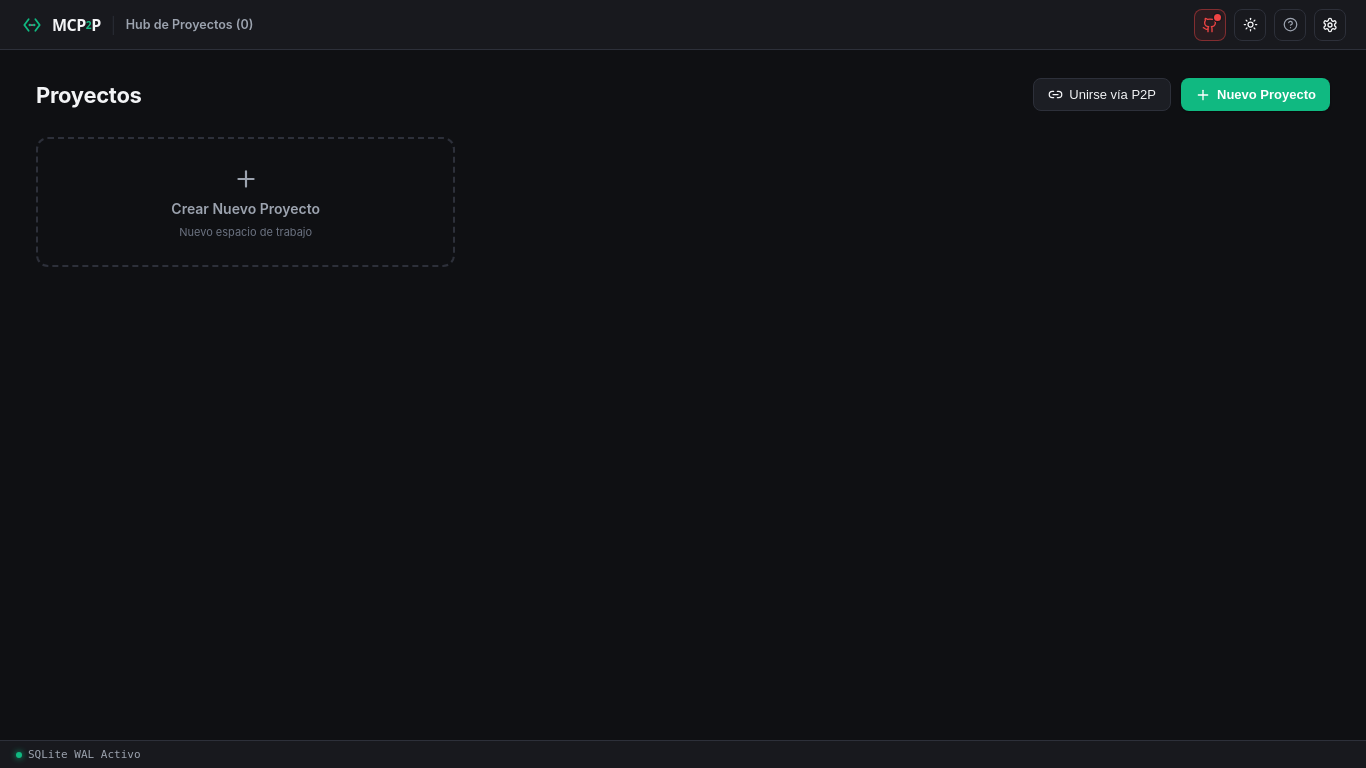
it: App - flujo de unión P2P pendiente › muestra la pantalla JoinRequestPending tras un join_p2p_project con status pending_approval
The width and height of the screenshot is (1366, 768).
Step 1. Click the button "Unirse vía P2P" → point(1102, 94), box [1033,78,1171,111]
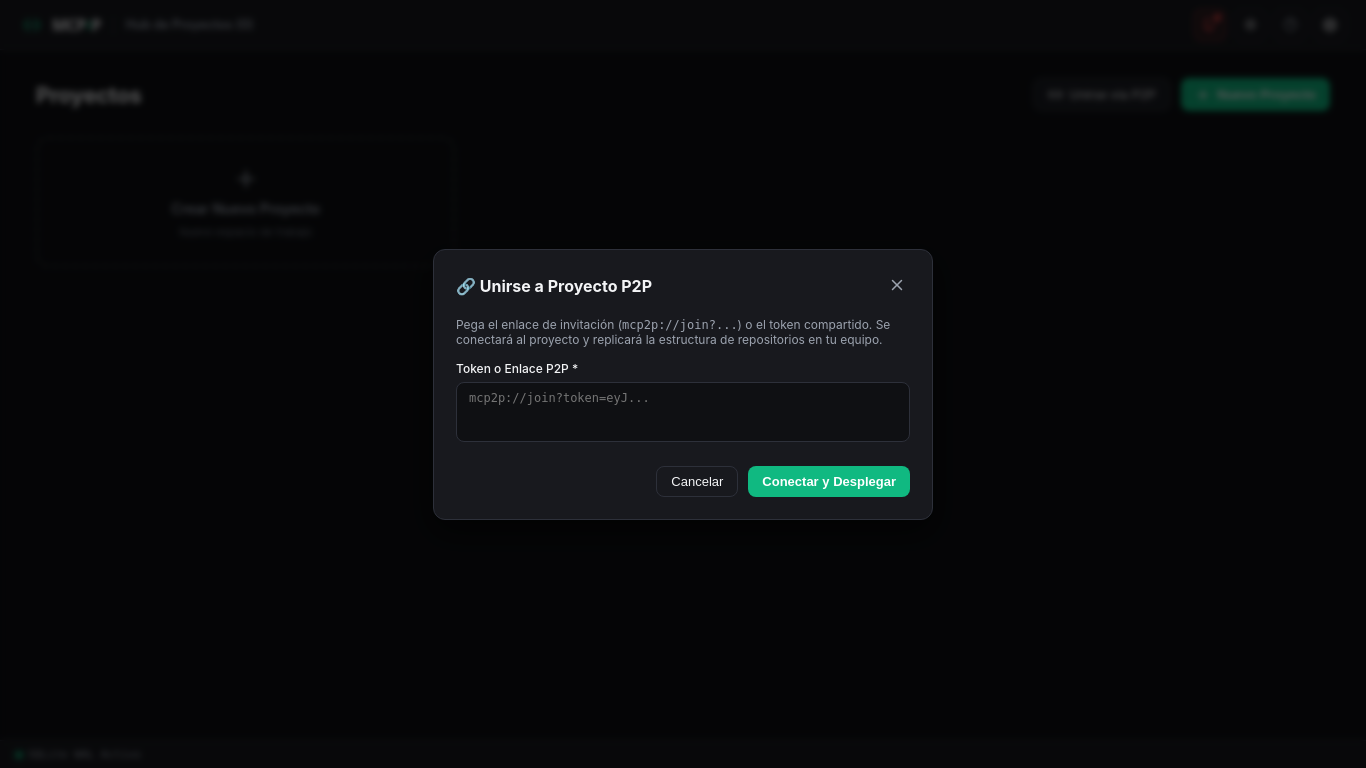
Step 2. Type "mcp2p://join?token=abc" into the text box with placeholder "mcp2p://join?token=eyJ..." → point(683, 412), box [456,382,910,442]
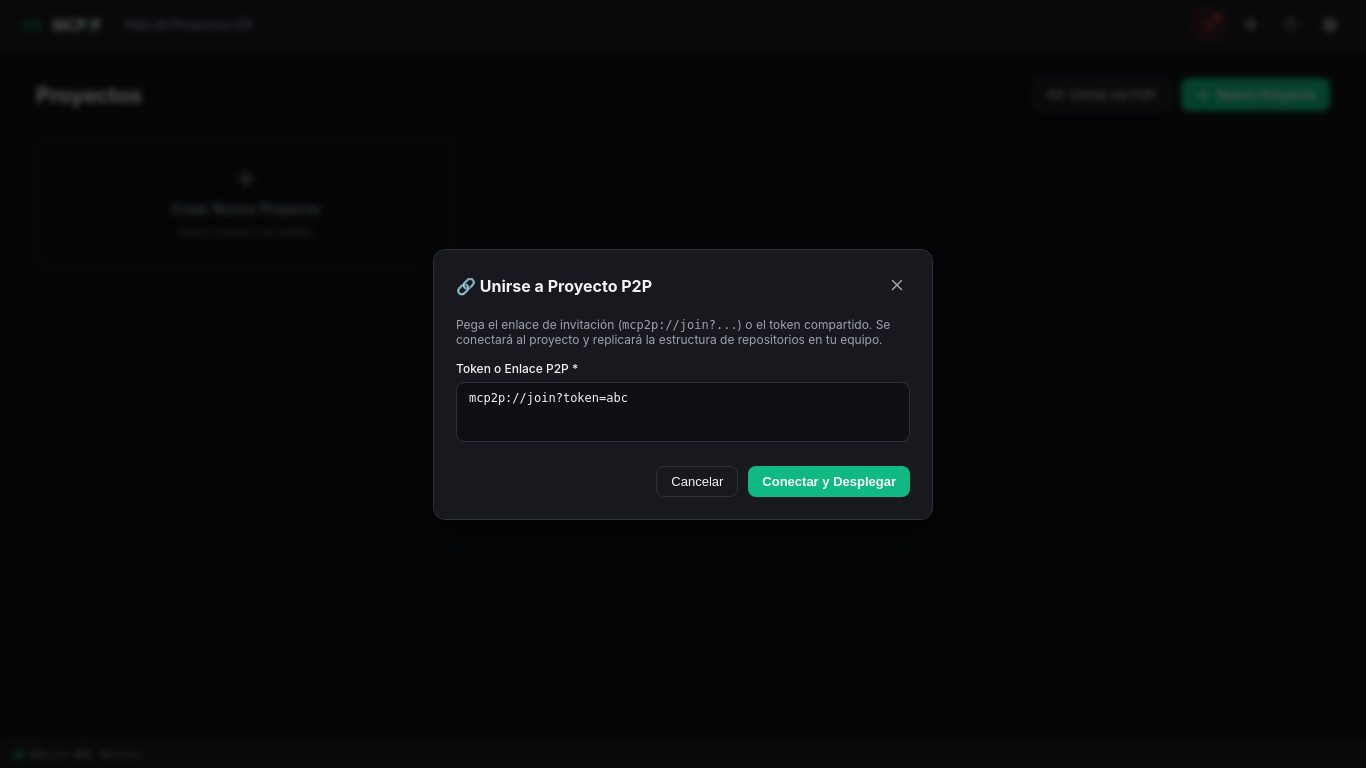
Step 3. Click the button "Conectar y Desplegar" → point(829, 481), box [748,466,910,496]
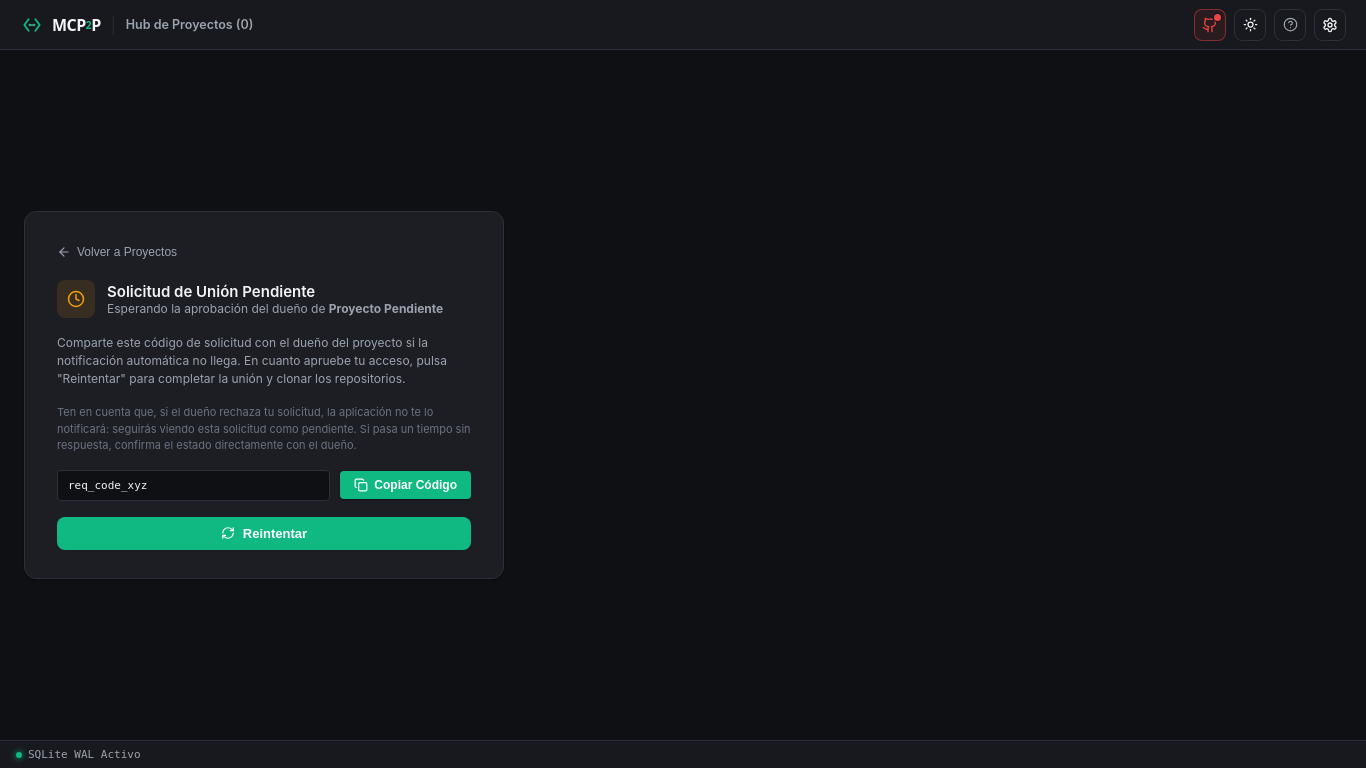
Expected: the button "Unirse vía P2P" is not shown
Now the element with test id "join-request-pending" is shown, box [24,211,504,579]
Now the text "Proyecto Pendiente" is shown, box [329,301,443,316]
